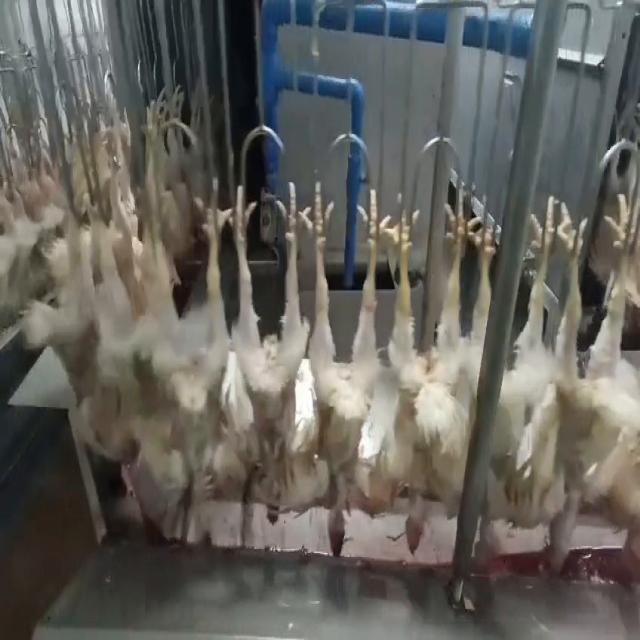chicken: (379, 181, 484, 564), (546, 190, 638, 580), (472, 190, 562, 578), (140, 160, 230, 548), (297, 183, 387, 560), (225, 170, 314, 533), (76, 181, 141, 468)
